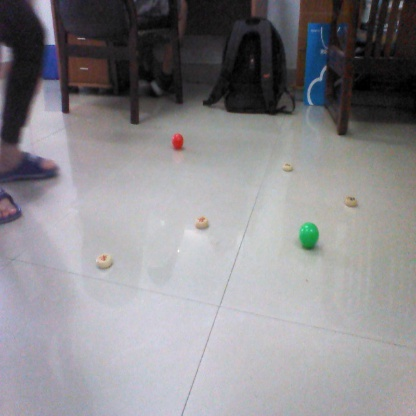ball: (300, 224, 324, 250), (169, 133, 187, 148)
chess: (91, 250, 116, 272), (341, 193, 361, 208), (278, 160, 298, 172), (194, 215, 211, 227)
